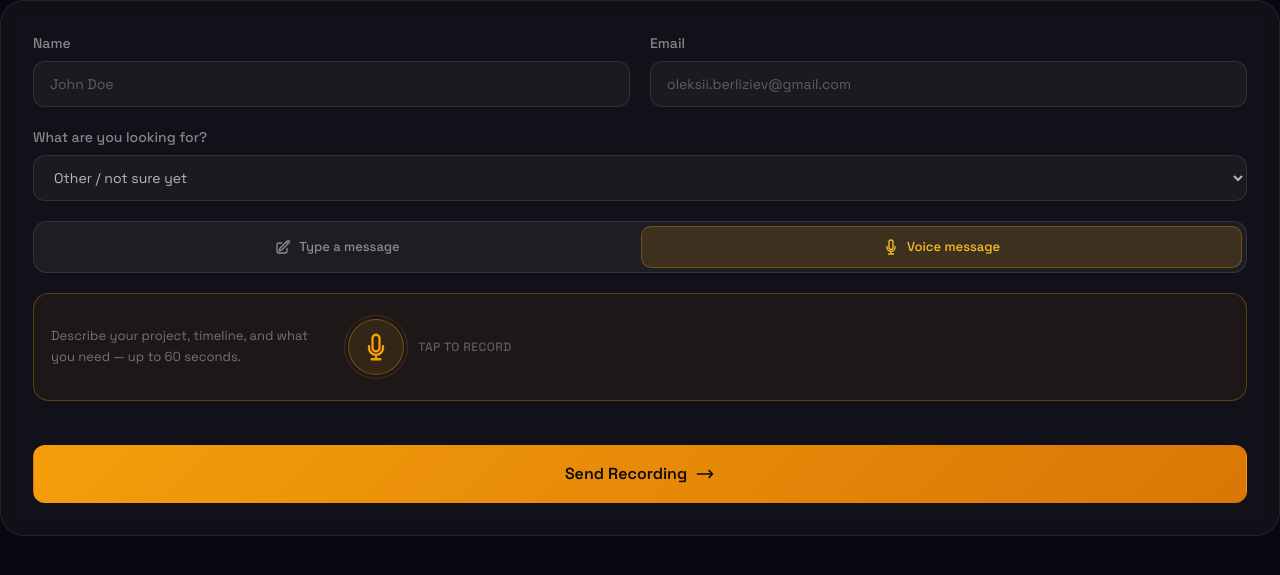
Test: ContactForm › case 4: blur malformed email → emailInvalid error
Type "not-an-email" into the field labelled "Email". click: (948, 84)
box: [650, 61, 1247, 107]
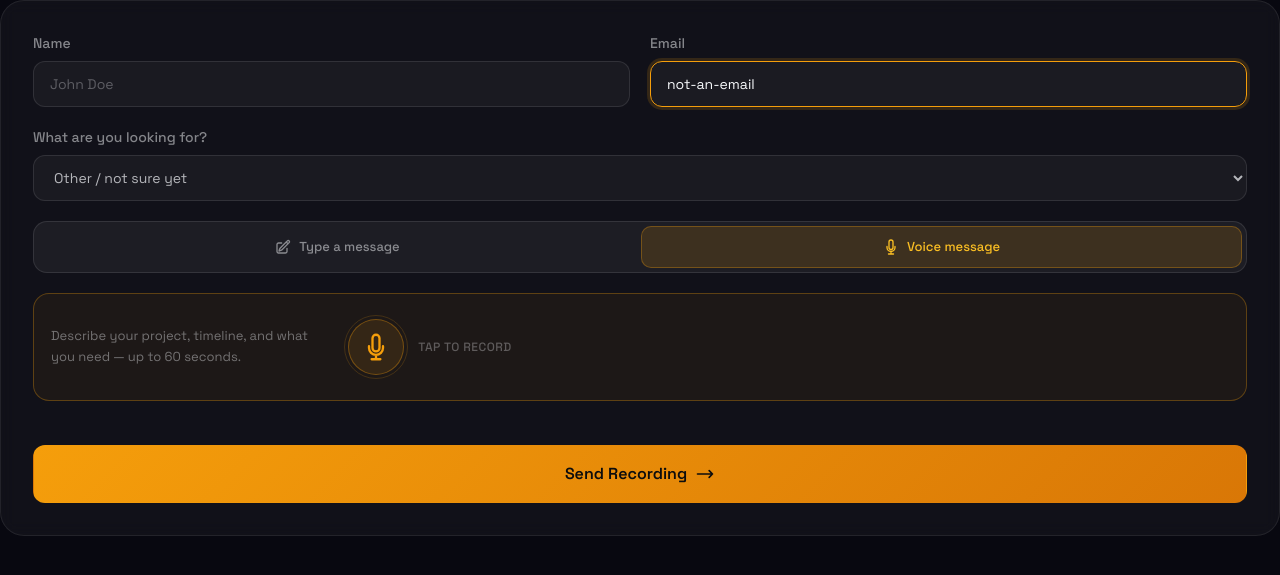
Press Tab
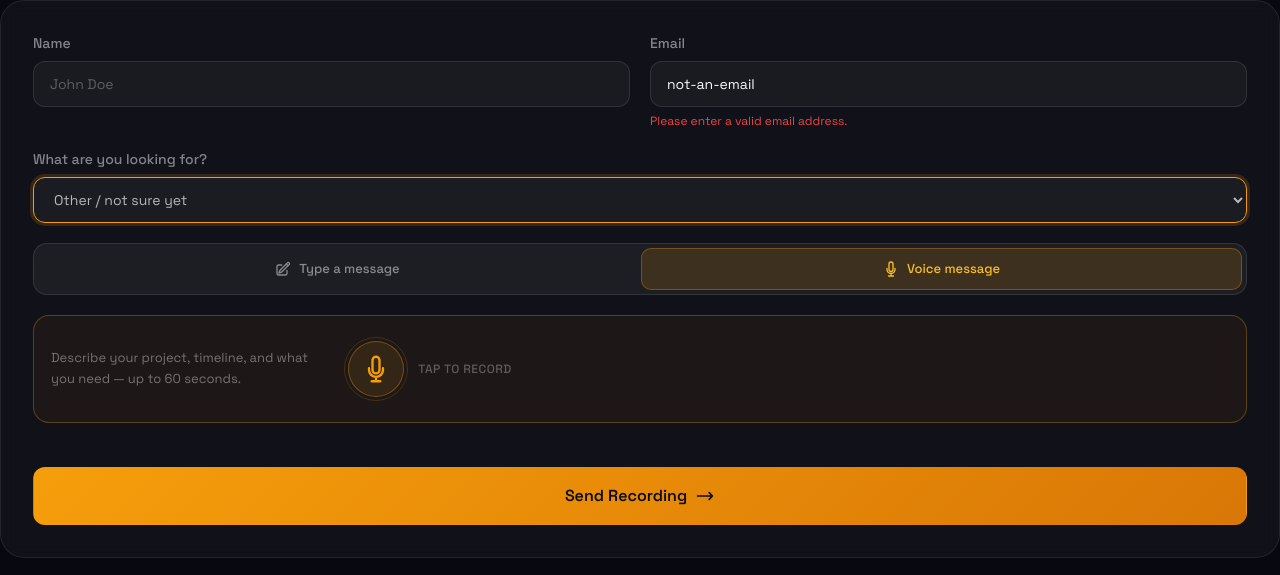
Now the text "Please enter a valid email address." is shown, box [650, 113, 847, 129]
